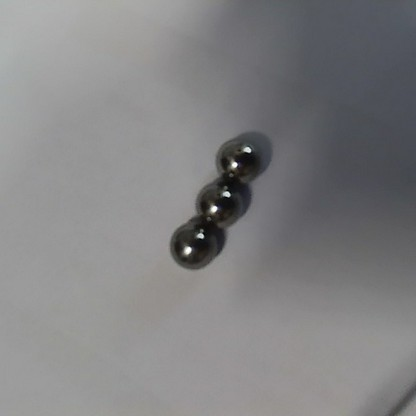ironball: (169, 218, 218, 271), (196, 179, 247, 226), (214, 138, 263, 185)
